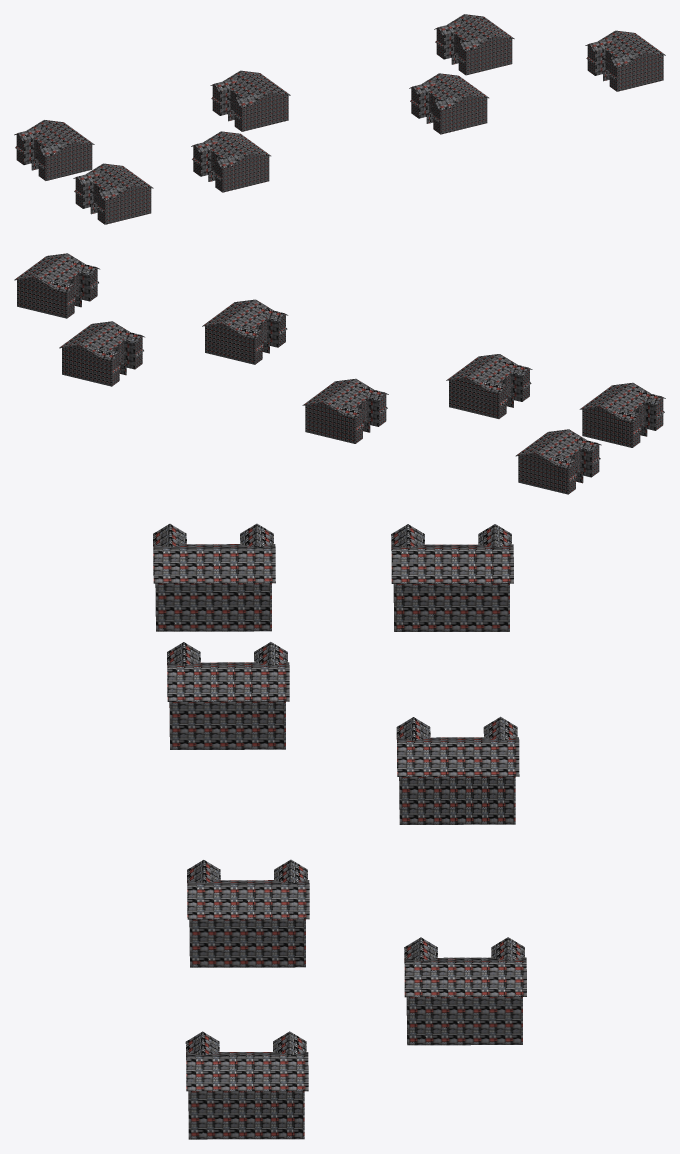
File: fangzi05.FBX
3 renders of one model, top to bottom at view 1: azimuth 30°, elevation 25°; view 2: azimuth 150°, elevation 25°; view 3: azimuth 270°, elevation 25°, orthographic. The views are drawn at different scales.
Visible parts, largest first — view 1: fangzi05; view 2: fangzi05; view 3: fangzi05.
Part boxes in pixels (bbox=[...]): fangzi05: bbox=[14, 14, 665, 224]; fangzi05: bbox=[14, 253, 665, 494]; fangzi05: bbox=[153, 523, 526, 1139].
Size of the model in its own units: 5812 by 316 by 1649.
